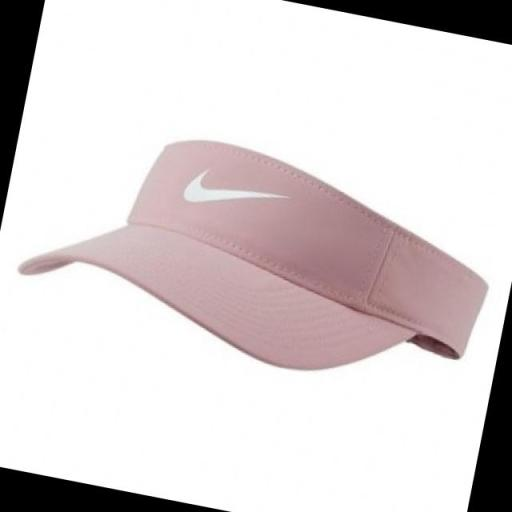Nike: (174, 160, 300, 226)
